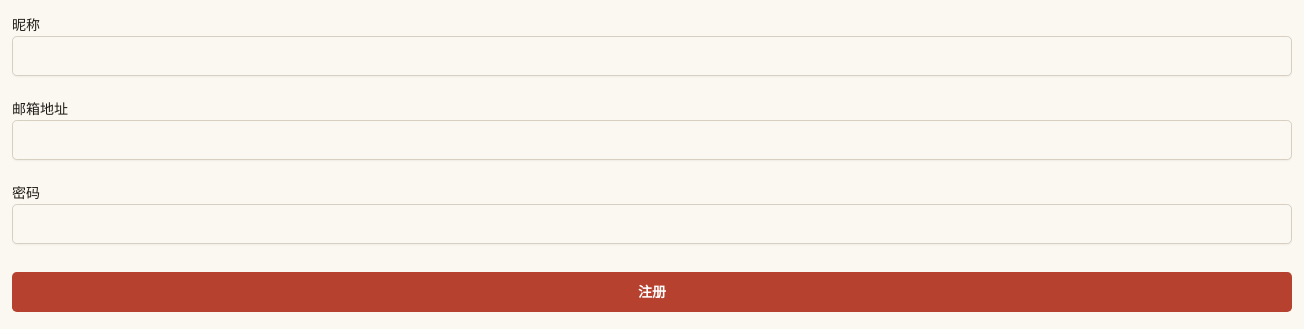
AuthForm › disables the submit button while a request is pending
The image size is (1304, 329).
Type "测试用户" into the field labelled "昵称" at (652, 56), box [12,36,1292,76]
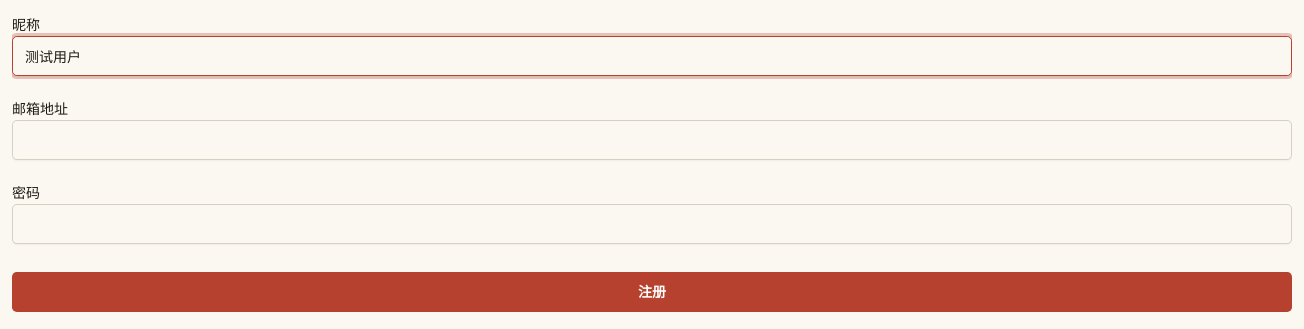
Type "user@example.com" into the field labelled "邮箱地址" at (652, 140), box [12,120,1292,160]
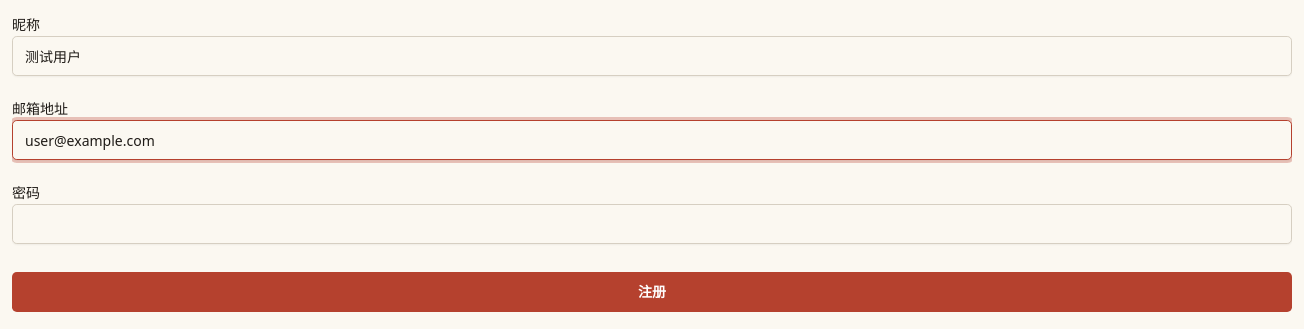
Type "password-1" into the password field labelled "密码" at (652, 224), box [12,204,1292,244]
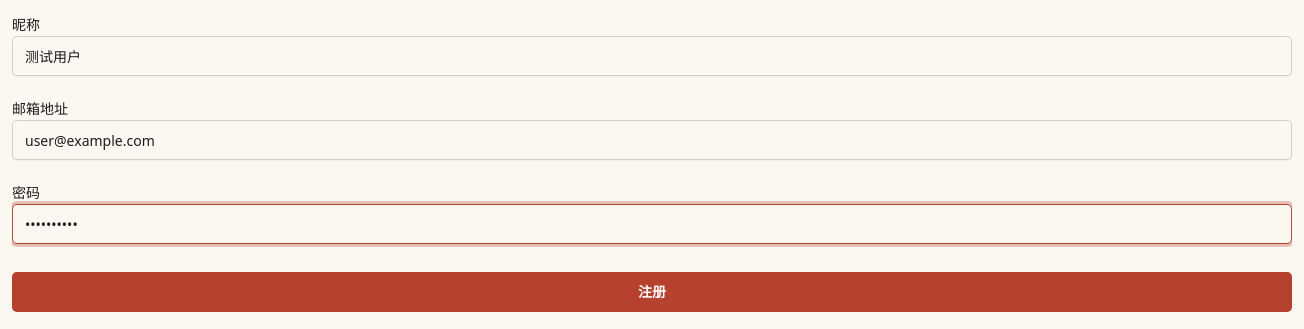
Click the button "注册" at (652, 292), box [12,272,1292,312]
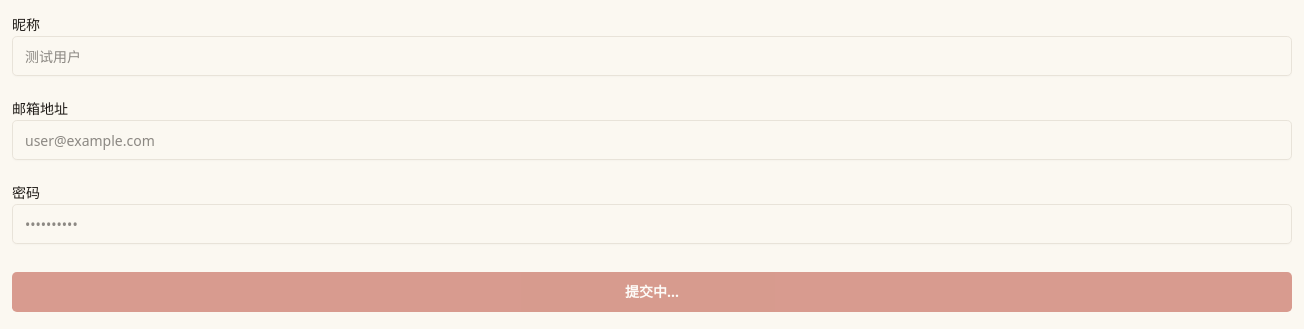
Result: the button named "注册" is disabled
Click the button named "注册" at (652, 292), box [12,272,1292,312]
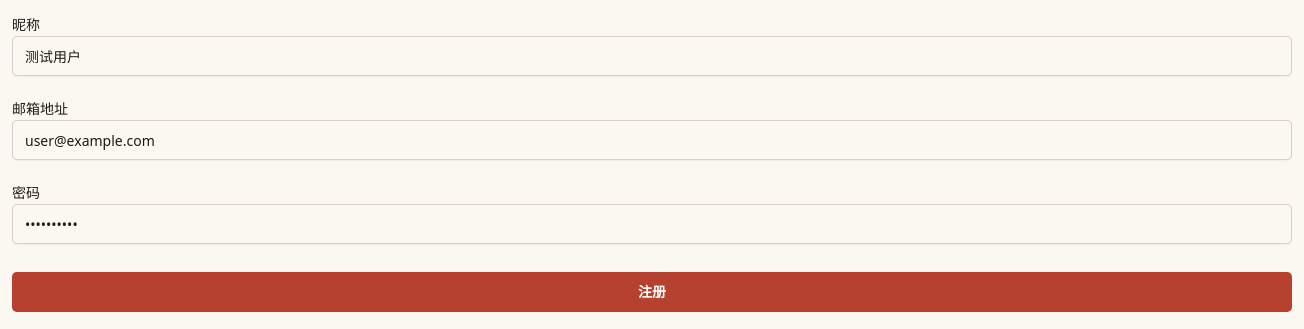
Result: the button "注册" is enabled at [12,272,1292,312]
